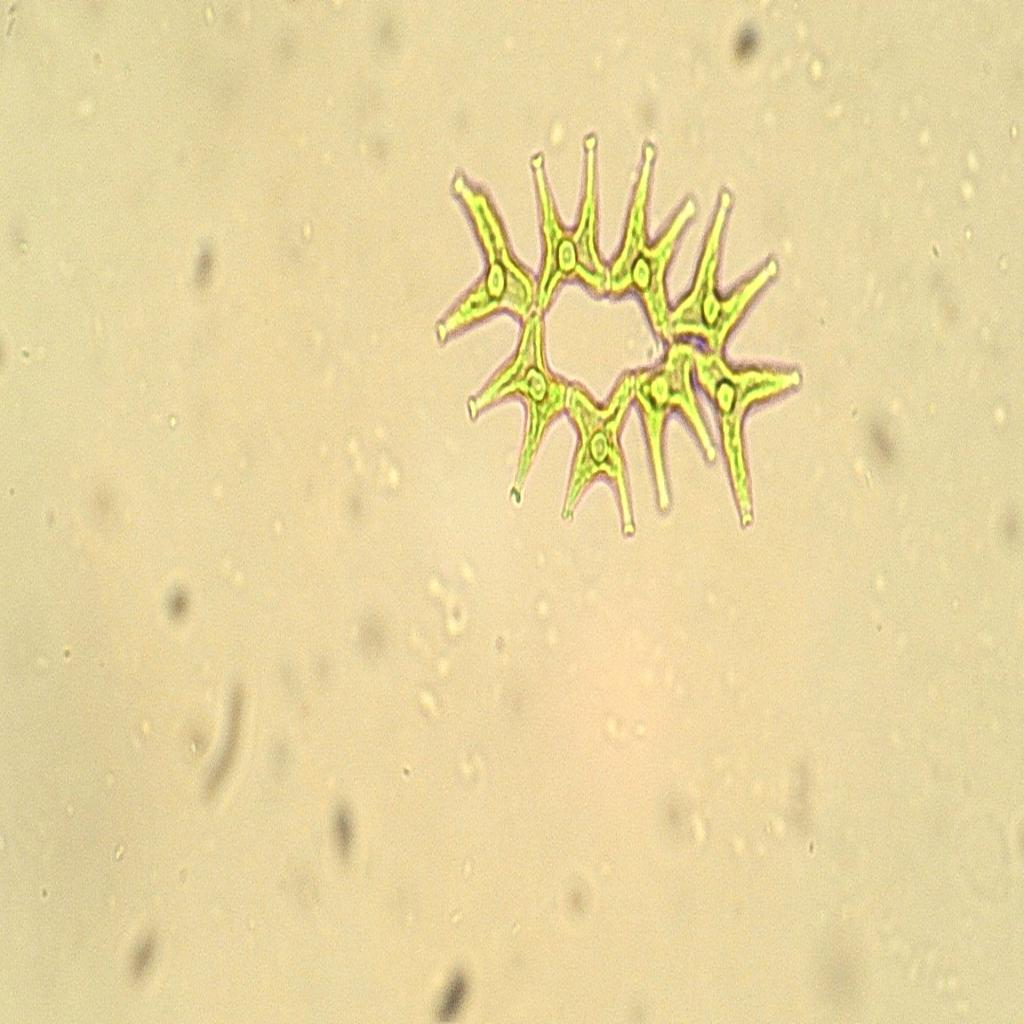Pediastrum_CFI: (424, 108, 814, 579)
